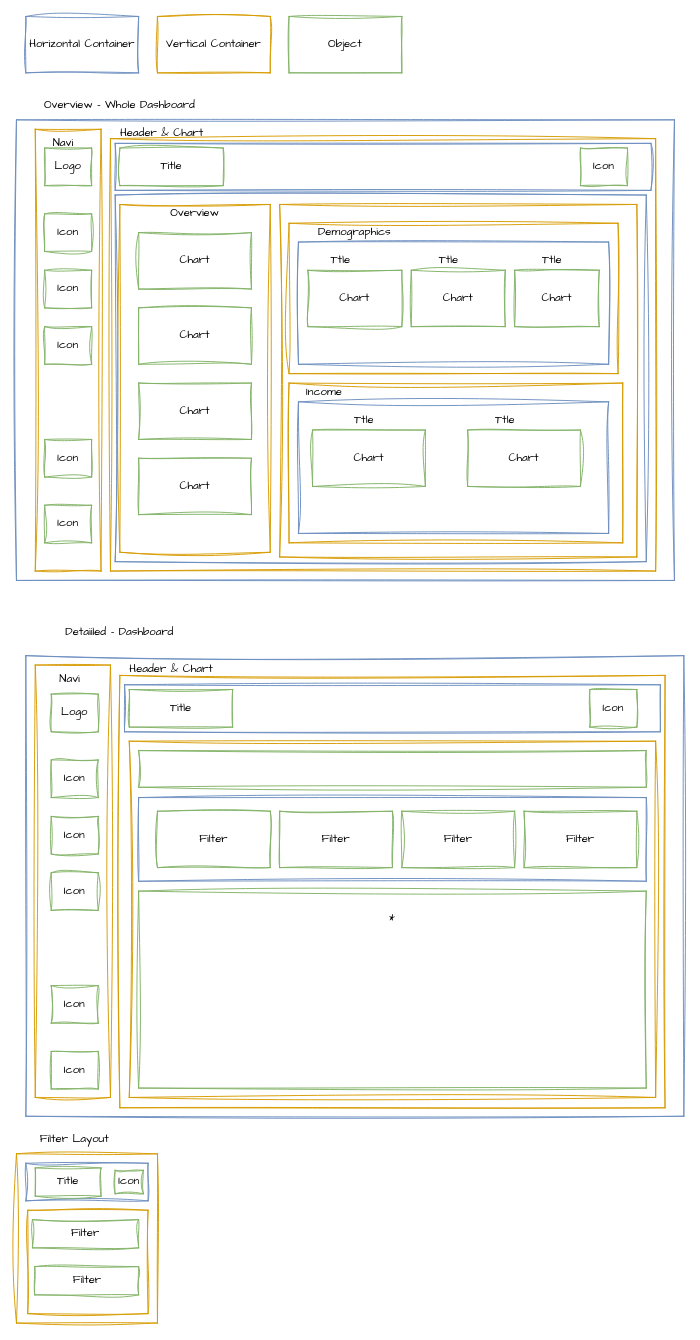
Some shapes in this 700 by 1340 pixel diagram are drawn without their labels. Each missing label, with the centre of its shape:
"Employee List" belongs at (392,768).
"List" belongs at (392,989).
